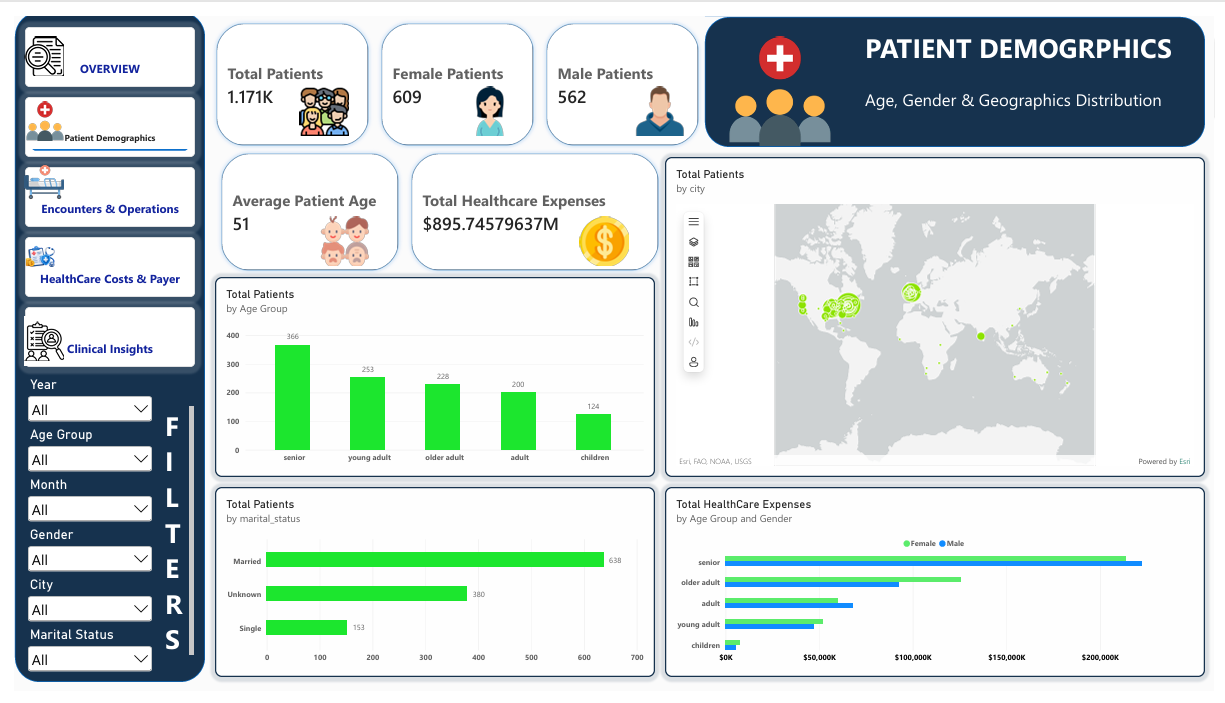

The page's visual inventory and layout, read from the dashboard file:
{"tool":"powerbi","page":{"name":"Patient Demographics","canvas":[1920,1080],"ordinal":1},"visuals":[{"type":"cardVisual","fields":{"Data":["Count(patients.patient_id)"]},"box":[576,0,264,216],"z":0},{"type":"shape","box":[1104,0,800,208],"z":1000},{"type":"textbox","box":[1360,0,528,224],"z":2000},{"type":"image","box":[1088,32,272,176],"z":3000},{"type":"shape","box":[0,-8,304,1072],"z":4000},{"type":"pageNavigator","title":"Ctrl+Click to follow","box":[16,16,272,96],"z":5000},{"type":"pageNavigator","title":"Ctrl+Click to follow","box":[16,128,272,96],"z":6000},{"type":"pageNavigator","title":"Ctrl+Click to follow","box":[16,240,272,96],"z":7000},{"type":"pageNavigator","title":"Ctrl+Click to follow","box":[16,464,272,96],"z":8000},{"type":"cardVisual","fields":{"Data":["Count(patients.patient_id)"]},"box":[840,0,264,216],"z":9000},{"type":"pageNavigator","title":"Ctrl+Click to follow","box":[16,352,272,96],"z":10000},{"type":"cardVisual","fields":{"Data":["Count(patients.patient_id)"]},"box":[312,0,264,216],"z":11000},{"type":"image","box":[400,112,192,80],"z":12000},{"type":"image","box":[704,112,112,80],"z":13000},{"type":"image","box":[976,112,112,80],"z":14000},{"type":"cardVisual","fields":{"Data":["patients.average_patient_age"]},"box":[320,208,304,208],"z":15000},{"type":"image","box":[464,320,128,80],"z":16000},{"type":"cardVisual","fields":{"Data":["patients.total_healthcare_expenses"]},"box":[624,208,416,208],"z":17000},{"type":"image","box":[864,320,160,80],"z":18000},{"type":"columnChart","fields":{"Category":["patients.age_segmentation"],"Y":["CountNonNull(patients.patient_id)"]},"box":[320,416,704,320],"z":19000},{"type":"clusteredBarChart","fields":{"Category":["patients.marital_status"],"Y":["CountNonNull(patients.patient_id)"]},"box":[320,752,704,304],"z":20000},{"type":"esriVisual","fields":{"Location":["patients.city"],"Size":["Count(patients.patient_id)"]},"box":[1040,224,864,512],"z":21000},{"type":"clusteredBarChart","fields":{"Category":["patients.age_segmentation"],"Series":["patients.gender"],"Y":["patients.total_healthcare_expenses"]},"box":[1040,752,864,304],"z":22000},{"type":"slicer","fields":{"Values":["patients.age_segmentation"]},"box":[16,656,208,80],"z":23000},{"type":"slicer","fields":{"Values":["encounters.year"]},"box":[16,576,208,80],"z":24000},{"type":"slicer","fields":{"Values":["encounters.month name"]},"box":[16,736,208,80],"z":26000},{"type":"slicer","fields":{"Values":["patients.city"]},"box":[16,896,208,80],"z":27000},{"type":"slicer","fields":{"Values":["patients.marital_status"]},"box":[16,976,208,80],"z":28000},{"type":"textbox","box":[240,624,48,408],"z":29000},{"type":"slicer","fields":{"Values":["patients.gender"]},"box":[16,816,208,96],"z":30000},{"type":"image","box":[0,32,96,64],"z":32000},{"type":"image","box":[16,128,64,80],"z":33000},{"type":"image","box":[16,224,64,80],"z":34000},{"type":"image","box":[0,336,80,96],"z":34001},{"type":"image","box":[16,480,64,80],"z":34002}]}

Visuals, with their boxes in screenshot pixels (x1, y1, x2, y2), scaled from the page's 1920x1080 canvas onto the 1225x703 screenshot:
cardVisual - Count(patients.patient_id): box(368, 0, 536, 141)
shape: box(704, 0, 1215, 135)
textbox: box(868, 0, 1205, 146)
image: box(694, 21, 868, 135)
shape: box(0, 0, 194, 693)
"Ctrl+Click to follow" pageNavigator: box(10, 10, 184, 73)
"Ctrl+Click to follow" pageNavigator: box(10, 83, 184, 146)
"Ctrl+Click to follow" pageNavigator: box(10, 156, 184, 219)
"Ctrl+Click to follow" pageNavigator: box(10, 302, 184, 365)
cardVisual - Count(patients.patient_id): box(536, 0, 704, 141)
"Ctrl+Click to follow" pageNavigator: box(10, 229, 184, 292)
cardVisual - Count(patients.patient_id): box(199, 0, 368, 141)
image: box(255, 73, 378, 125)
image: box(449, 73, 521, 125)
image: box(623, 73, 694, 125)
cardVisual - patients.average_patient_age: box(204, 135, 398, 271)
image: box(296, 208, 378, 260)
cardVisual - patients.total_healthcare_expenses: box(398, 135, 664, 271)
image: box(551, 208, 653, 260)
columnChart - patients.age_segmentation x CountNonNull(patients.patient_id): box(204, 271, 653, 479)
clusteredBarChart - patients.marital_status x CountNonNull(patients.patient_id): box(204, 489, 653, 687)
esriVisual - patients.city x Count(patients.patient_id): box(664, 146, 1215, 479)
clusteredBarChart - patients.age_segmentation x patients.gender: box(664, 489, 1215, 687)
slicer - patients.age_segmentation: box(10, 427, 143, 479)
slicer - encounters.year: box(10, 375, 143, 427)
slicer - encounters.month name: box(10, 479, 143, 531)
slicer - patients.city: box(10, 583, 143, 635)
slicer - patients.marital_status: box(10, 635, 143, 687)
textbox: box(153, 406, 184, 672)
slicer - patients.gender: box(10, 531, 143, 594)
image: box(0, 21, 61, 62)
image: box(10, 83, 51, 135)
image: box(10, 146, 51, 198)
image: box(0, 219, 51, 281)
image: box(10, 312, 51, 365)
